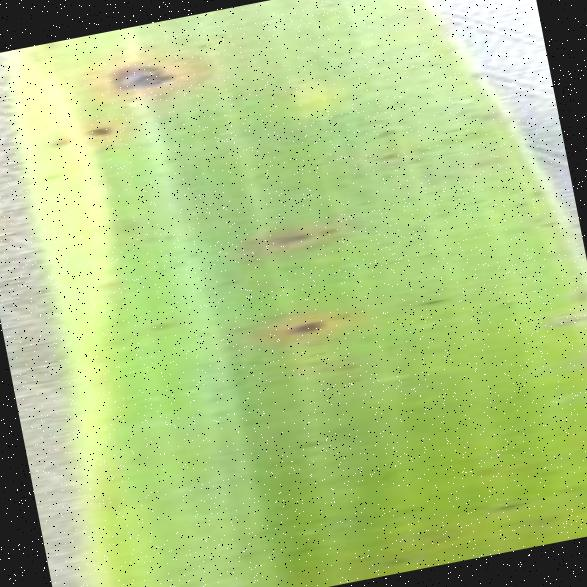Brown_Spot: (96, 45, 176, 105), (246, 212, 317, 264), (268, 304, 332, 348), (536, 301, 587, 333), (314, 352, 364, 380), (411, 523, 460, 551), (76, 113, 120, 144), (86, 266, 132, 295), (460, 453, 502, 484), (484, 488, 530, 516), (39, 125, 78, 157), (200, 268, 245, 295), (278, 536, 322, 563), (225, 540, 271, 565), (106, 208, 144, 236), (284, 429, 326, 454), (407, 286, 447, 312), (428, 118, 464, 142), (374, 548, 413, 570), (464, 148, 501, 170), (530, 457, 562, 482), (141, 313, 177, 335), (551, 476, 587, 498), (365, 120, 397, 144), (568, 337, 587, 376), (308, 219, 340, 242), (458, 61, 487, 85), (350, 325, 380, 348), (36, 164, 68, 184), (557, 282, 587, 303), (504, 192, 532, 214), (164, 254, 192, 276), (240, 164, 268, 186), (390, 499, 422, 518), (489, 290, 517, 310), (473, 106, 501, 126), (320, 306, 350, 324), (144, 162, 170, 182), (428, 204, 456, 222), (372, 146, 398, 164), (530, 215, 556, 233), (374, 166, 396, 186), (460, 192, 487, 208), (524, 181, 548, 198), (330, 176, 354, 192), (190, 35, 212, 52), (154, 227, 176, 244), (408, 140, 431, 155), (360, 146, 378, 162), (424, 56, 438, 68)
